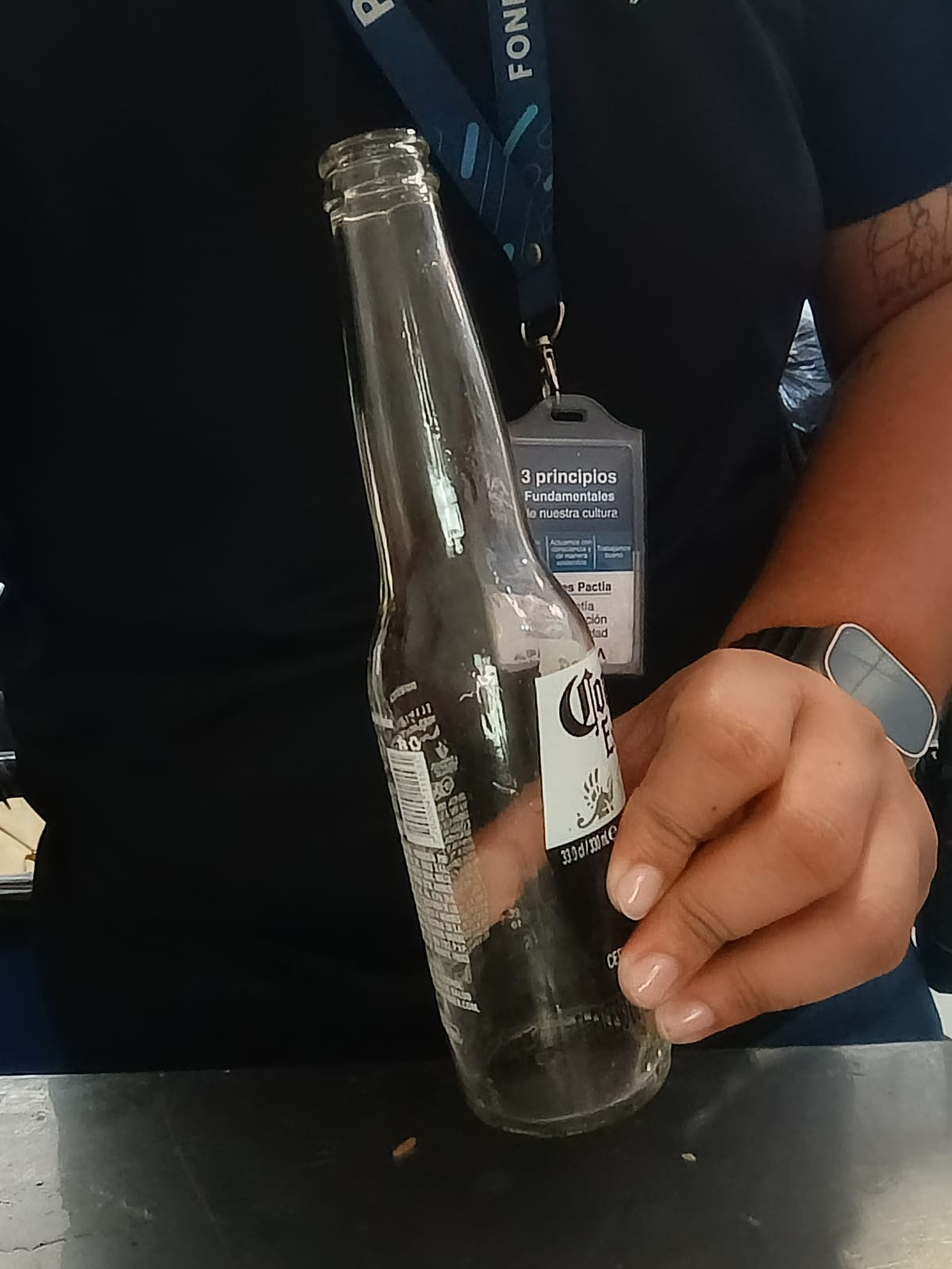Vidrio: (319, 126, 667, 1136)
